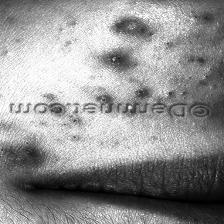Non-Cancerous Skin Condition: (14, 0, 224, 92), (1, 127, 177, 224)
